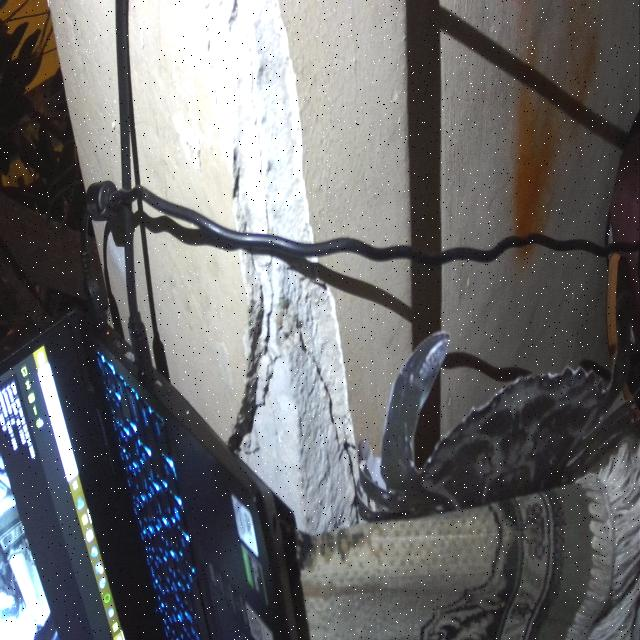European_Green_Crab: (351, 303, 636, 532)
